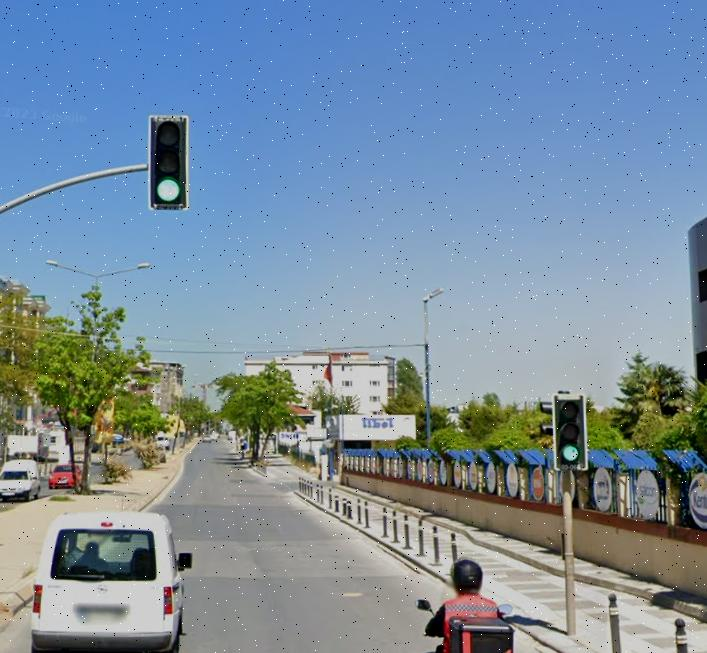greenlight: (153, 119, 189, 204), (553, 394, 583, 462)
